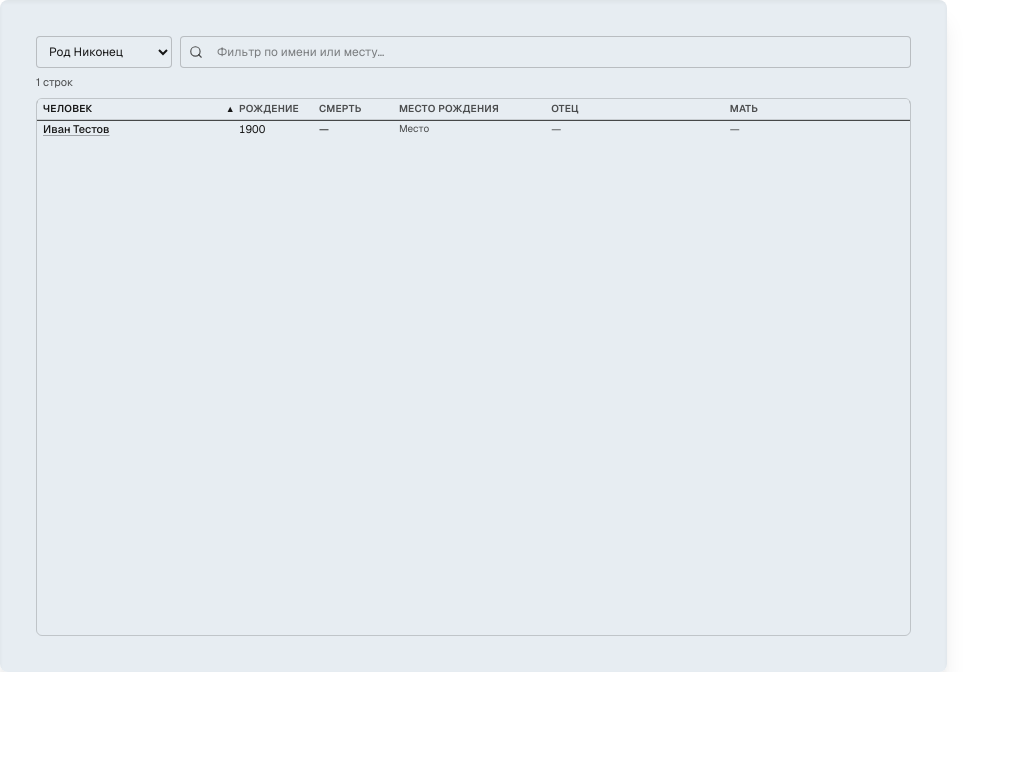
FamilySearchPersonsSection › shows empty state when filter matches nothing (debounced)
Step 1. Type "zzzz-no-match" into the search field → (557,52), box left=209, top=40, right=904, bottom=64
Wait 300 ms
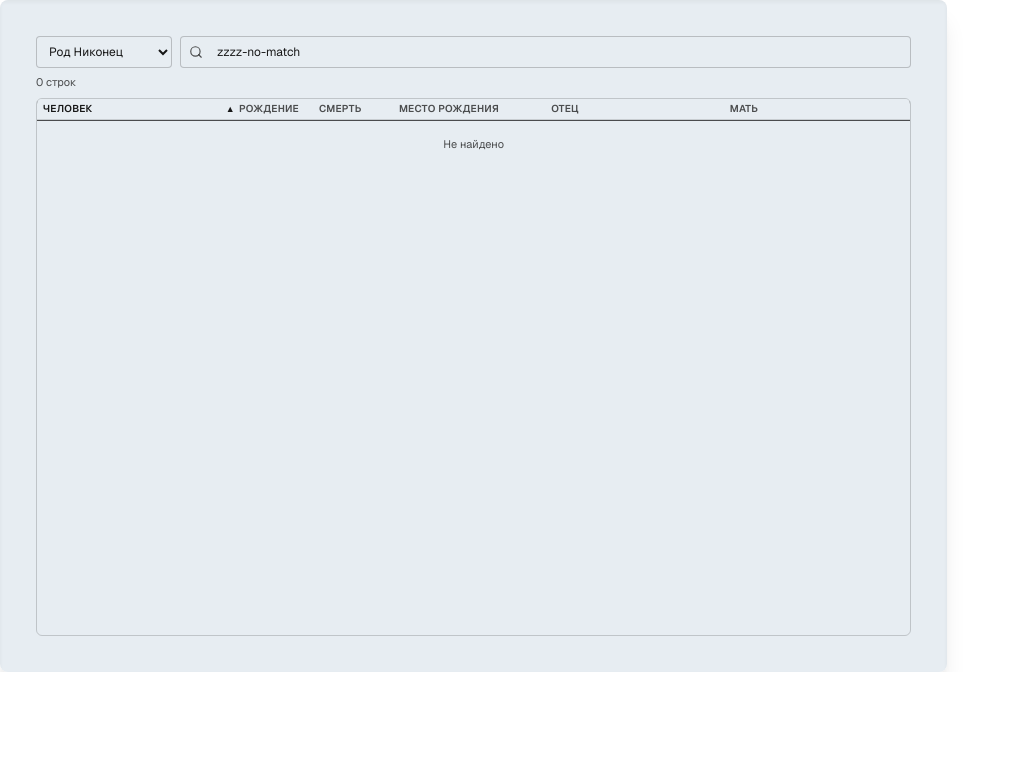
Check: the text "Не найдено" is shown, box left=443, top=137, right=504, bottom=151
